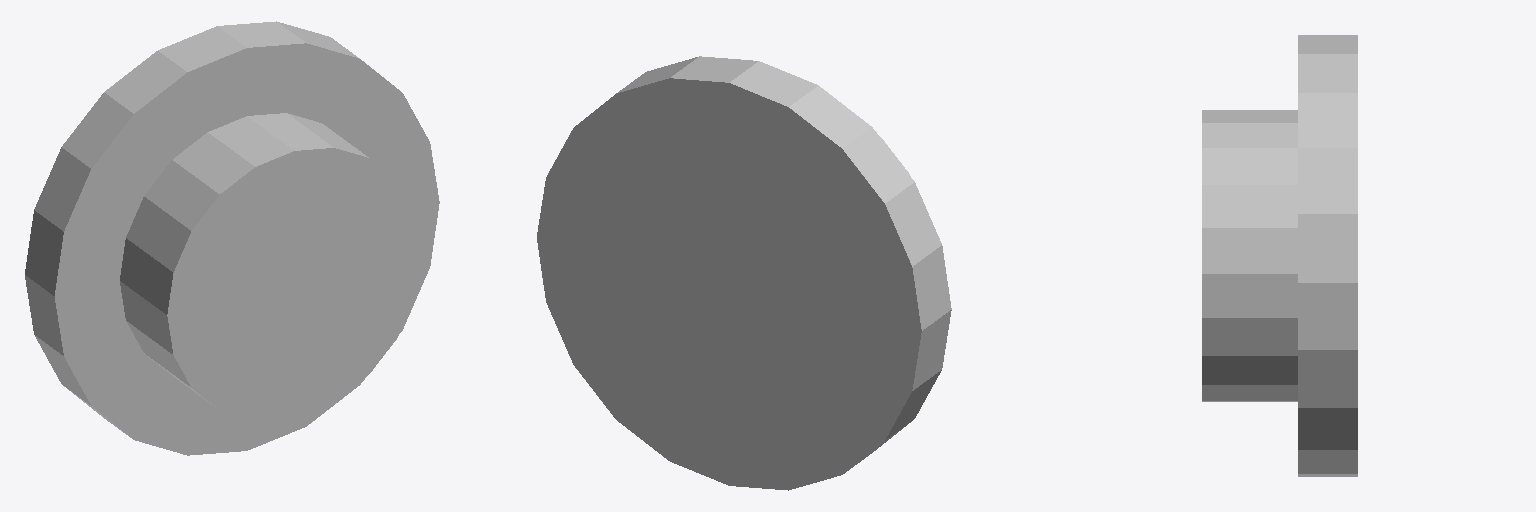
The model's file is Tower-MORTARBASE.obj.
The picture shows the model from 3 angles: view 1: azimuth 30°, elevation 25°; view 2: azimuth 150°, elevation 25°; view 3: azimuth 270°, elevation 25°; orthographic projection.
Visible parts, largest first — view 1: initialShadingGroup pasted__initialShadingGroup1 pasted__initial; view 2: initialShadingGroup pasted__initialShadingGroup1 pasted__initial; view 3: initialShadingGroup pasted__initialShadingGroup1 pasted__initial.
Part boxes in pixels (x1,y1,x2,y2): initialShadingGroup pasted__initialShadingGroup1 pasted__initial: (25, 21, 439, 455); initialShadingGroup pasted__initialShadingGroup1 pasted__initial: (537, 56, 951, 490); initialShadingGroup pasted__initialShadingGroup1 pasted__initial: (1202, 35, 1357, 476).
Size of the model in its own units: 0.8055 by 0.8055 by 0.281.